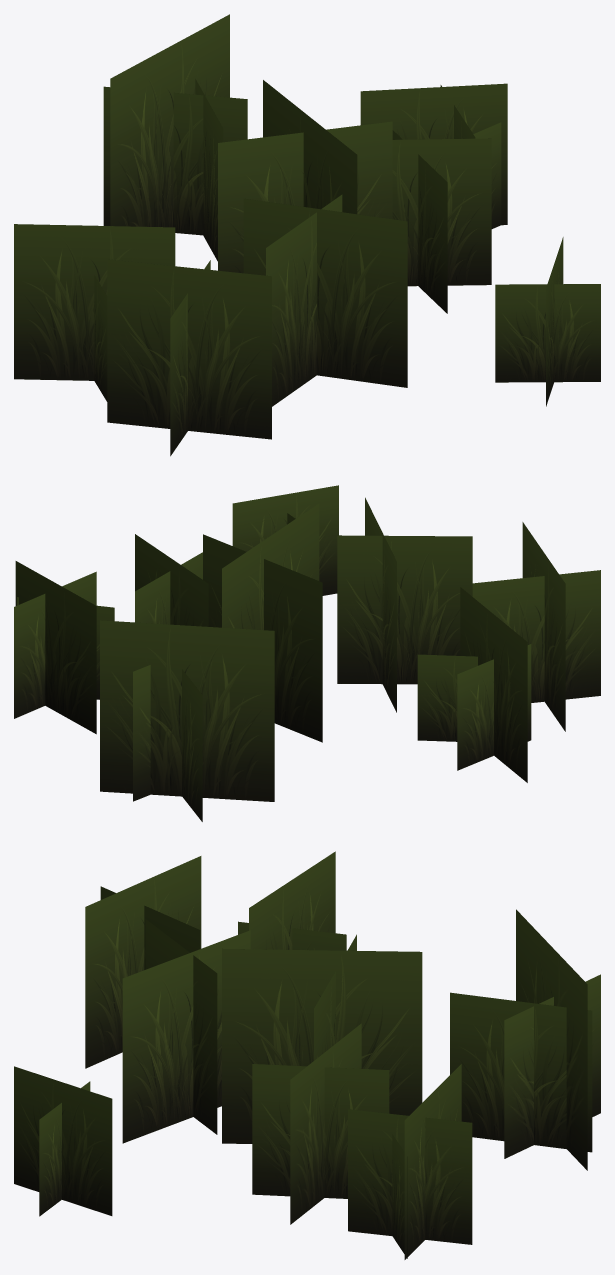
File: Grass_09.fbx
3 renders of one model, top to bottom at view 1: azimuth 30°, elevation 25°; view 2: azimuth 150°, elevation 25°; view 3: azimuth 270°, elevation 25°, orthographic. The views are drawn at different scales.
Parts seen in each view (by area): view 1: Grass_09; view 2: Grass_09; view 3: Grass_09.
Part boxes in pixels (x1,y1,x2,y2): Grass_09: [14, 14, 600, 456]; Grass_09: [14, 485, 600, 821]; Grass_09: [14, 851, 600, 1259].
Size of the model in its own units: 3.11 by 1.1 by 3.01.
Materials: 1 (1 with a texture image).
